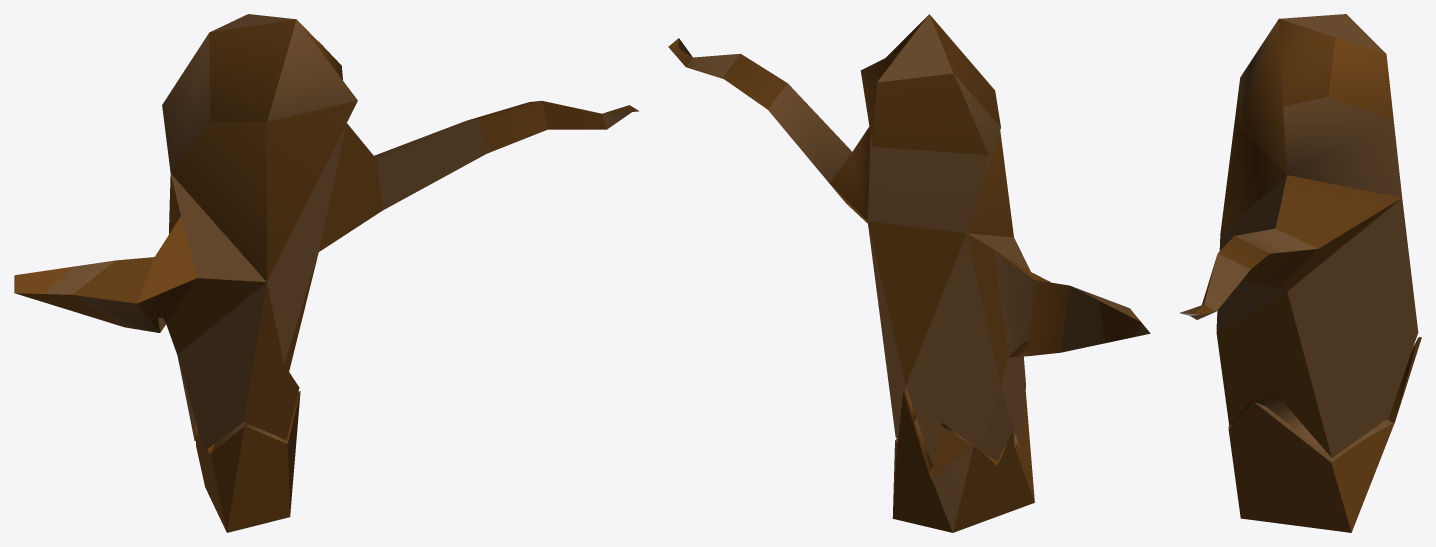
The model's file is tree_bear_breaks.fbx.
3 renders of one model, left to right at view 1: azimuth 30°, elevation 25°; view 2: azimuth 150°, elevation 25°; view 3: azimuth 270°, elevation 25°, orthographic. The views are drawn at different scales.
Visible parts, largest first — view 1: tree_base1; view 2: tree_base1; view 3: tree_base1.
Part boxes in pixels (x1,y1,x2,y2): tree_base1: (14,14,638,532); tree_base1: (668,14,1150,532); tree_base1: (1179,14,1421,532).
Bounding box in the file's own units: 512 × 428 × 184.
